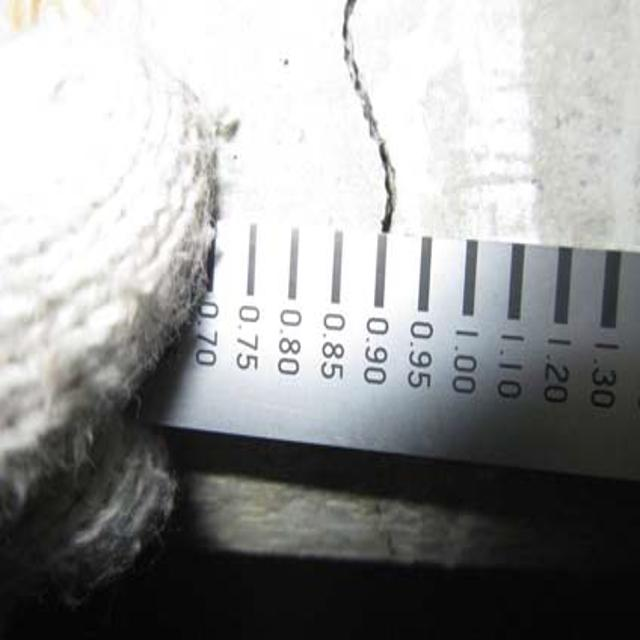crack: (333, 6, 424, 240)
